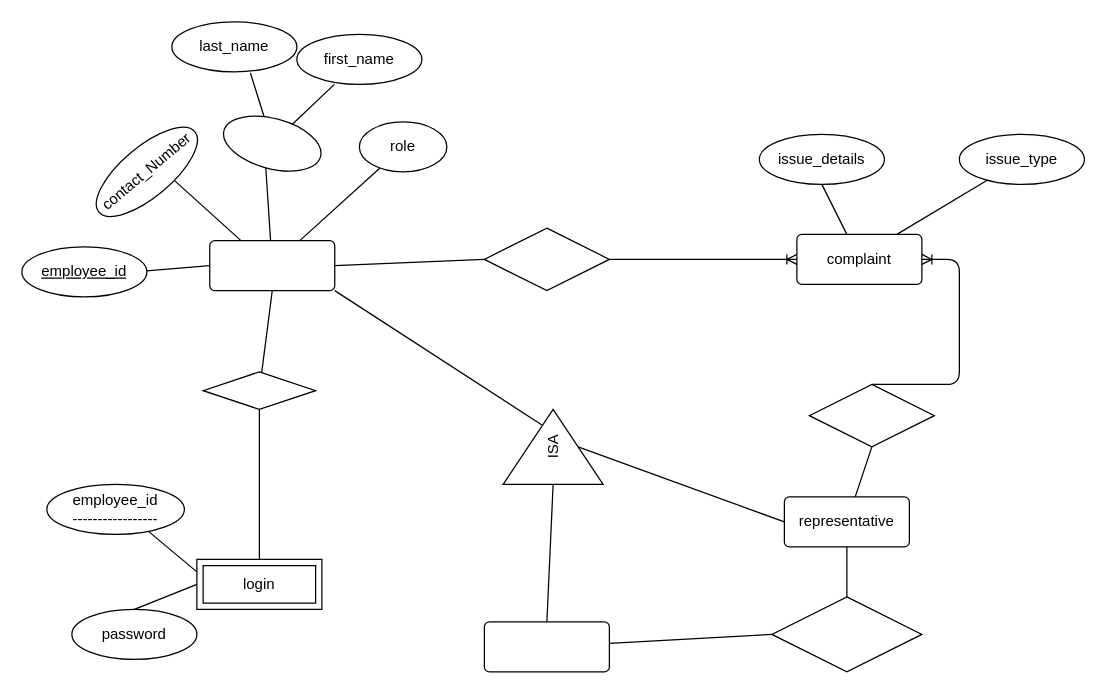
Some shapes in this 1106 by 694 pixel diagram are drawn without their labels. The centre of each missing label's shape, as x and y in pixels:
"assigns" belongs at [846,634].
"Employee" belongs at [271,265].
"has" belongs at [259,390].
"logs" belongs at [871,415].
"name" belongs at [271,143].
"technicians" belongs at [546,646].
"views" belongs at [546,259].
